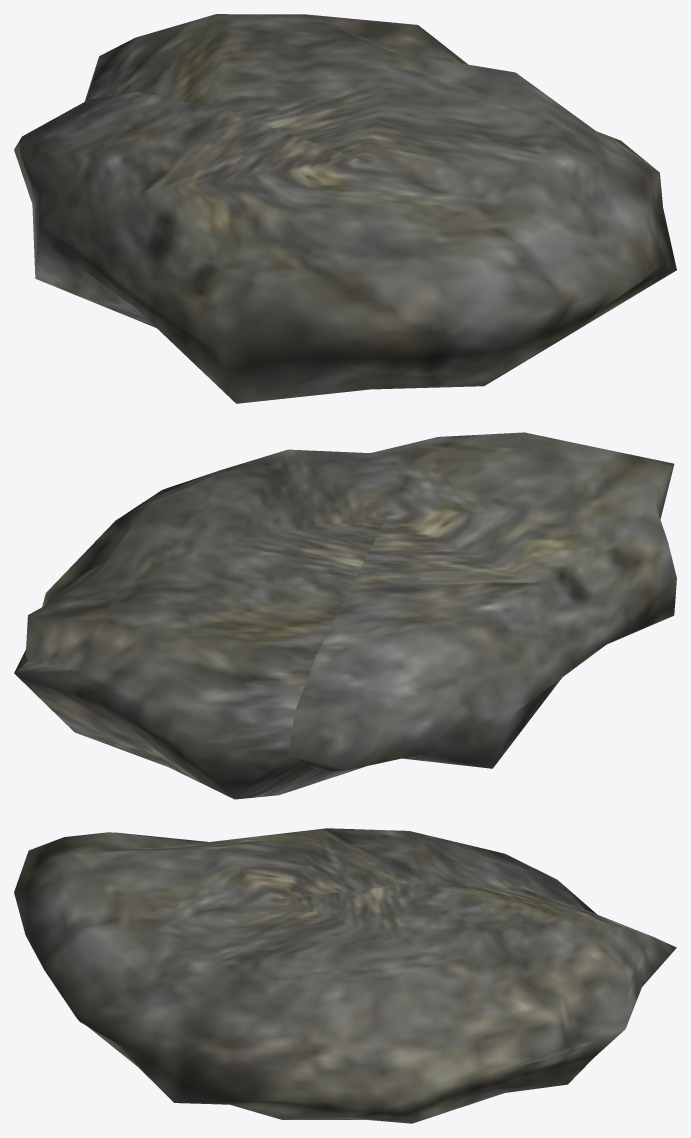
Rendered from dark_rock.fbx.
The picture shows the model from 3 angles, top to bottom: view 1: azimuth 30°, elevation 25°; view 2: azimuth 150°, elevation 25°; view 3: azimuth 270°, elevation 25°; orthographic projection. The views are drawn at different scales.
Visible parts, largest first — view 1: dark_rock; view 2: dark_rock; view 3: dark_rock.
Part boxes in pixels (box(x1,y1,x2,y2)): dark_rock: box(14, 14, 676, 403); dark_rock: box(14, 432, 676, 799); dark_rock: box(14, 828, 676, 1123).
Size of the model in its own units: 102 by 35.73 by 133.
